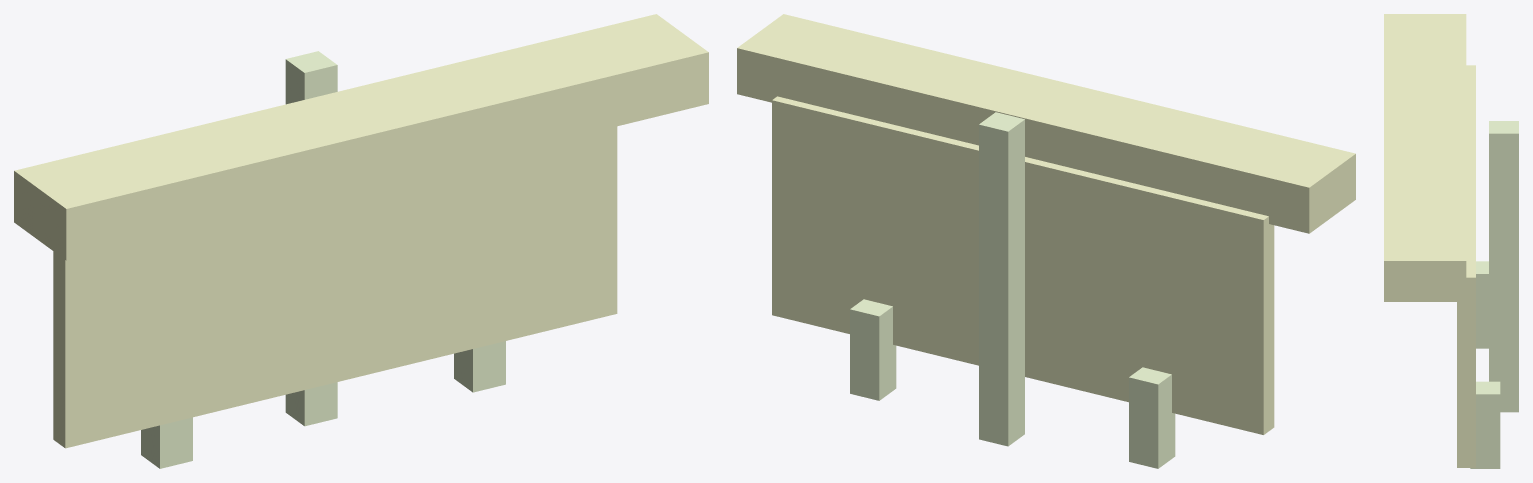
The model's file is furniture_signal_backplate_horizontal.glb.
3 renders of one model, left to right at view 1: azimuth 30°, elevation 25°; view 2: azimuth 150°, elevation 25°; view 3: azimuth 270°, elevation 25°, orthographic. The views are drawn at different scales.
Visible parts, largest first — view 1: plate, hood, mount_strap, brace_left, brace_right; view 2: plate, hood, mount_strap, brace_right, brace_left; view 3: hood, mount_strap, plate, brace_right, brace_left.
Boxes of the visible parts, x1=… form: plate: x1=53, y1=126, x2=617, y2=448; hood: x1=14, y1=14, x2=708, y2=260; mount_strap: x1=285, y1=51, x2=337, y2=426; brace_left: x1=141, y1=417, x2=192, y2=468; brace_right: x1=454, y1=341, x2=505, y2=392; plate: x1=772, y1=96, x2=1274, y2=434; hood: x1=737, y1=14, x2=1355, y2=233; mount_strap: x1=979, y1=112, x2=1024, y2=446; brace_right: x1=850, y1=299, x2=896, y2=400; brace_left: x1=1129, y1=367, x2=1175, y2=468; hood: x1=1384, y1=14, x2=1466, y2=301; mount_strap: x1=1489, y1=121, x2=1518, y2=412; plate: x1=1457, y1=65, x2=1475, y2=467; brace_right: x1=1470, y1=381, x2=1500, y2=468; brace_left: x1=1476, y1=261, x2=1488, y2=348.
Size of the model in its own units: 1.56 by 0.82 by 0.36.
